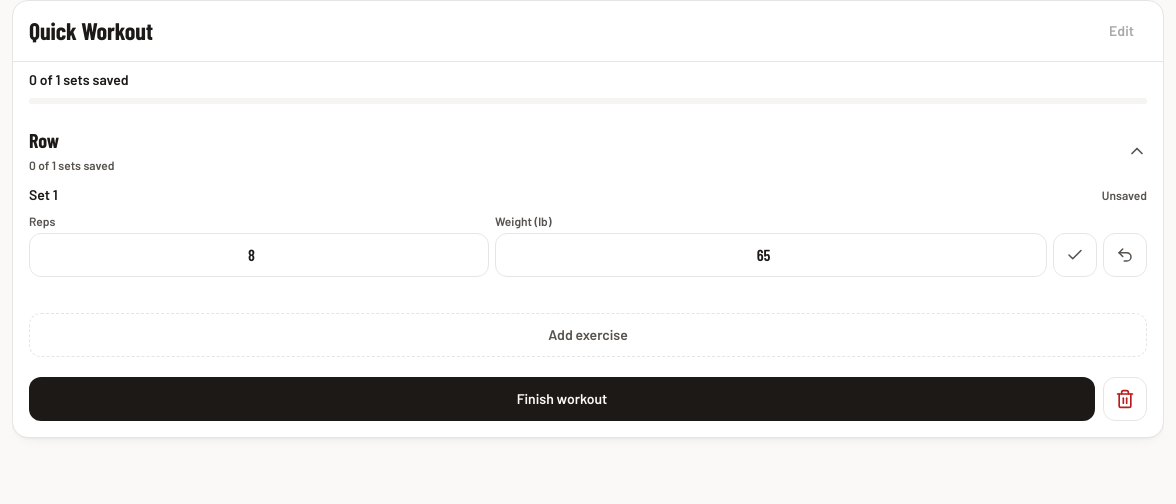
Test case: persists the acknowledged baseline before undoing an older draft without one
The image size is (1176, 504).
Click the button named "Undo set 1" at {"x": 1125, "y": 255}, box [1103,233,1147,277]
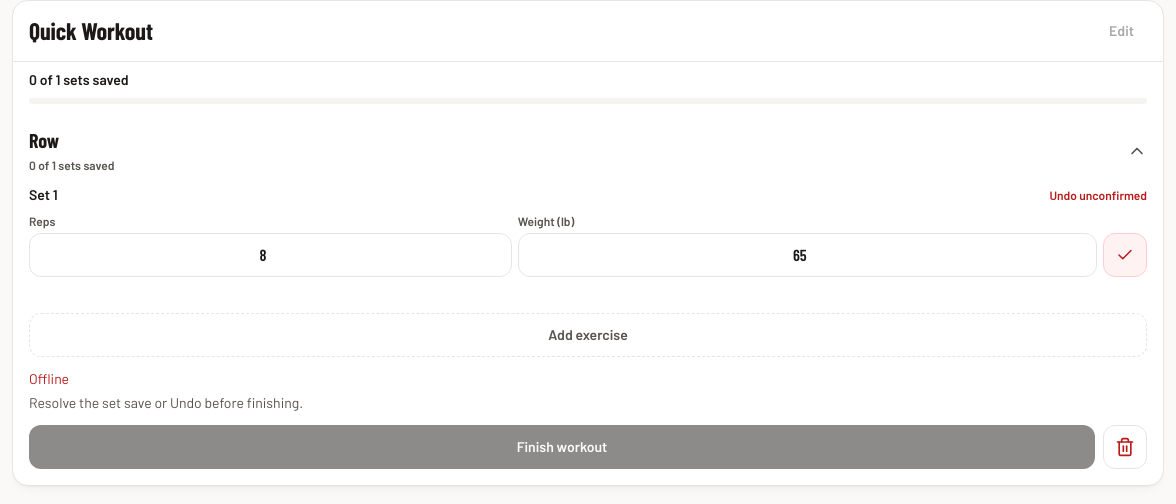
Result: the text "Undo unconfirmed" is shown at [1049,187,1147,203]
